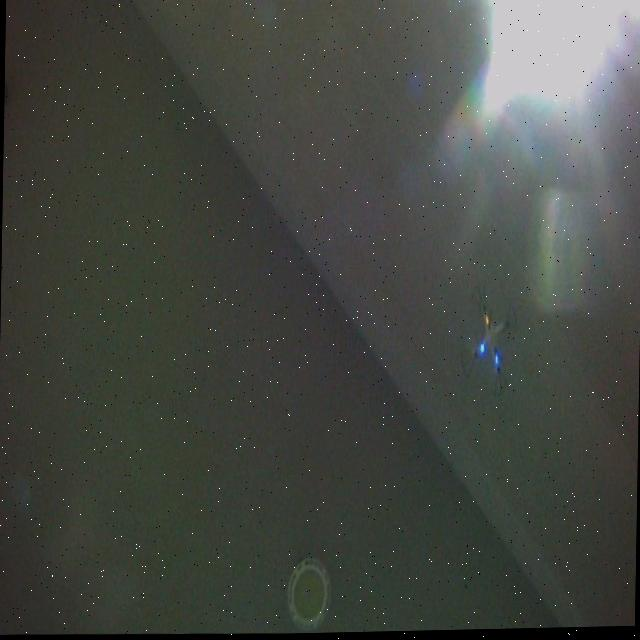drone: (458, 281, 518, 402)
